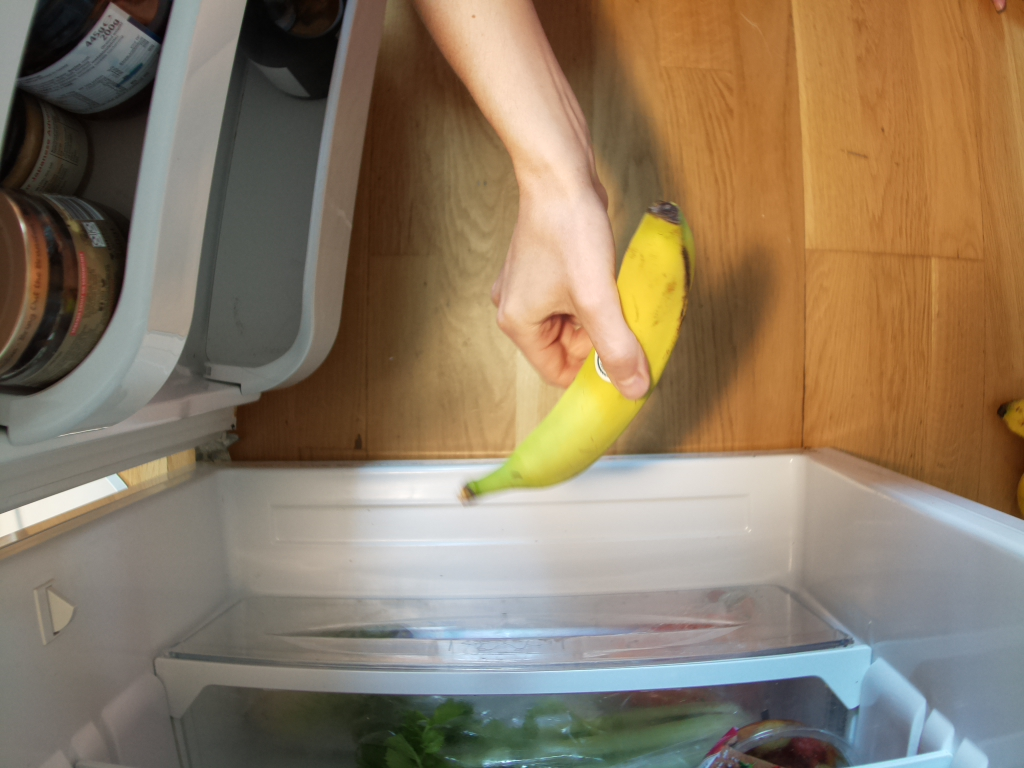banana-unripe: (459, 196, 691, 510)
